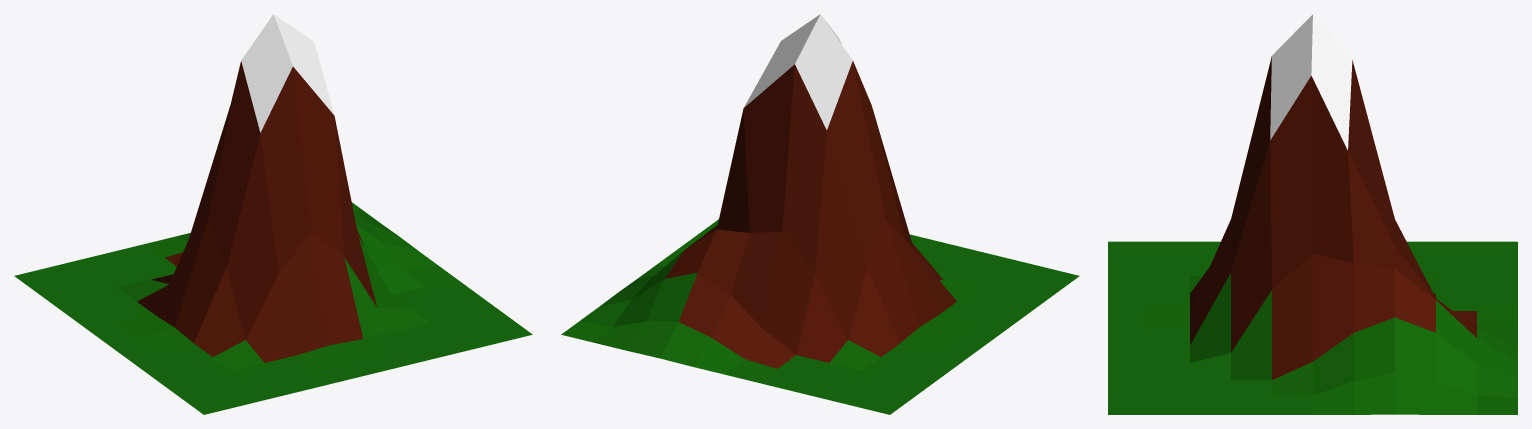
Rendered from Lanscape03.FBX.
3 renders of one model, left to right at view 1: azimuth 30°, elevation 25°; view 2: azimuth 150°, elevation 25°; view 3: azimuth 270°, elevation 25°, orthographic. The views are drawn at different scales.
Parts seen in each view (by area): view 1: Plane003; view 2: Plane003; view 3: Plane003.
Part boxes in pixels (x1,y1,x2,y2): Plane003: [14, 14, 532, 414]; Plane003: [561, 14, 1079, 414]; Plane003: [1108, 14, 1517, 414].
Size of the model in its own units: 130 by 110 by 130.
